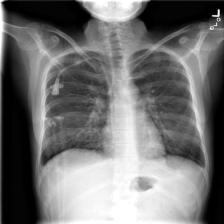normal: (34, 43, 208, 205)
